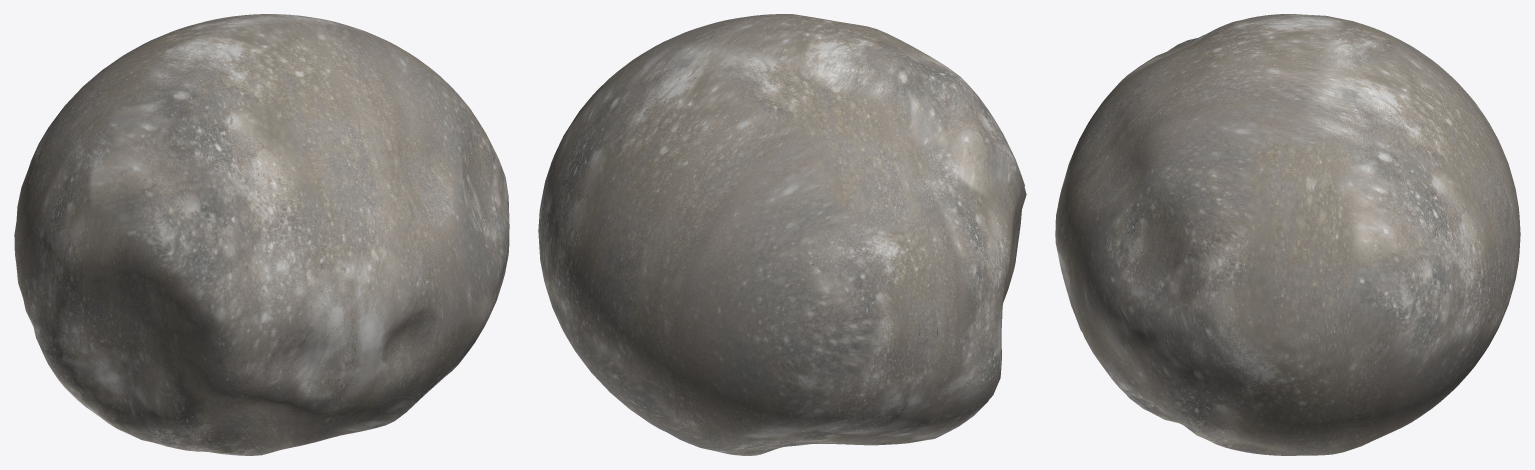
Rendered from Himalia.glb.
3 views of the same model, side by side, from view 1: azimuth 30°, elevation 25°; view 2: azimuth 150°, elevation 25°; view 3: azimuth 270°, elevation 25° (orthographic). The views are drawn at different scales.
Parts seen in each view (by area): view 1: Larissa Stooke; view 2: Larissa Stooke; view 3: Larissa Stooke.
Boxes of the visible parts, x1,y1,x2,y2 form: Larissa Stooke: (14, 14, 509, 455); Larissa Stooke: (538, 14, 1026, 455); Larissa Stooke: (1055, 14, 1520, 455).
Size of the model in its own units: 160 by 141 by 153.
Materials: 1 (1 with a texture image).
